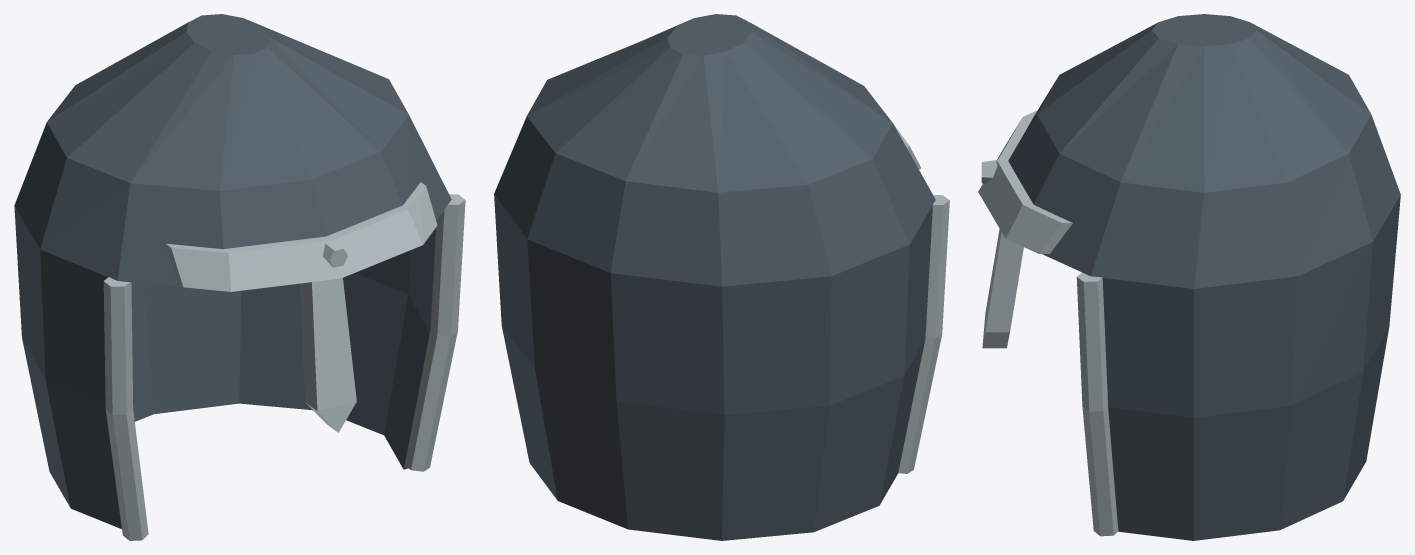
File: plate_head-female.glb
The picture shows the model from 3 angles, left to right: view 1: azimuth 30°, elevation 25°; view 2: azimuth 150°, elevation 25°; view 3: azimuth 270°, elevation 25°; orthographic projection.
Parts seen in each view (by area): view 1: plate joined crown and nape guard, Fitted brow binding, Bound face opening 1, Bound face opening -1, Brow-mounted nasal guard; view 2: plate joined crown and nape guard, Bound face opening -1; view 3: plate joined crown and nape guard, Bound face opening 1, Fitted brow binding, Brow-mounted nasal guard.
Part boxes in pixels (box(x1,y1,x2,y2)): plate joined crown and nape guard: box(14, 14, 451, 528); Fitted brow binding: box(166, 182, 437, 291); Bound face opening 1: box(405, 194, 465, 471); Bound face opening -1: box(103, 277, 148, 540); Brow-mounted nasal guard: box(300, 278, 356, 432); plate joined crown and nape guard: box(494, 14, 935, 540); Bound face opening -1: box(898, 195, 949, 473); plate joined crown and nape guard: box(1008, 14, 1400, 540); Bound face opening 1: box(1076, 272, 1118, 536); Fitted brow binding: box(978, 110, 1072, 253); Brow-mounted nasal guard: box(982, 229, 1023, 348).
Bounding box in the file's own units: 1.07 × 1.15 × 1.01.
